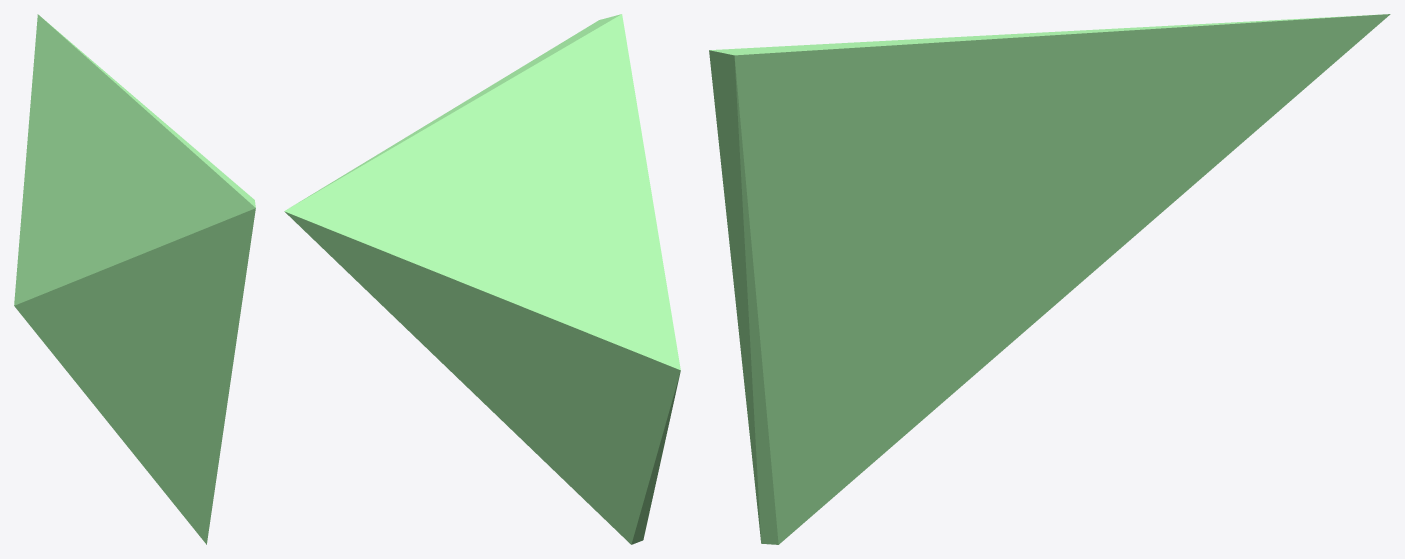
File: UMIRobot_UMIRobot_link_5_convex_coll_4.dae
3 views of the same model, side by side, from view 1: azimuth 30°, elevation 25°; view 2: azimuth 150°, elevation 25°; view 3: azimuth 270°, elevation 25° (orthographic). The views are drawn at different scales.
Parts seen in each view (by area): view 1: node; view 2: node; view 3: node.
Part boxes in pixels (x1=…): node: x1=14, y1=14, x2=255, y2=544; node: x1=284, y1=14, x2=680, y2=544; node: x1=709, y1=14, x2=1390, y2=544.
Bounding box in the file's own units: 0.0113 × 0.0268 × 0.0296.
